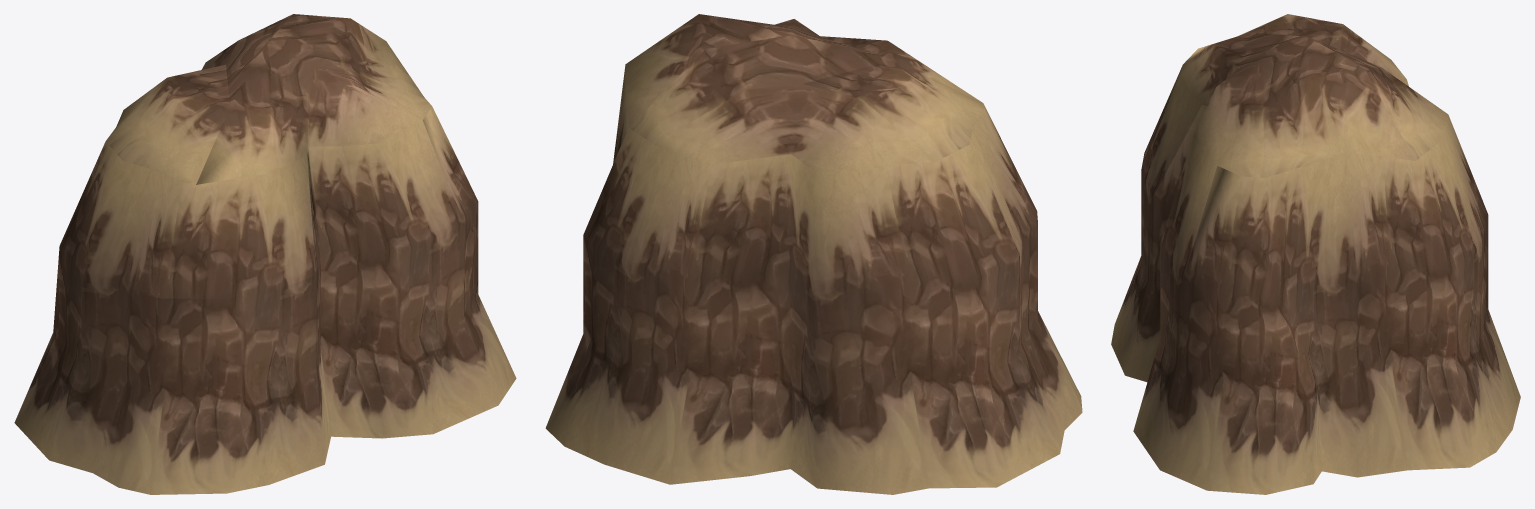
The model's file is FB5_dashati_2.FBX.
The picture shows the model from 3 angles, left to right: view 1: azimuth 30°, elevation 25°; view 2: azimuth 150°, elevation 25°; view 3: azimuth 270°, elevation 25°; orthographic projection. The views are drawn at different scales.
Parts seen in each view (by area): view 1: FB5_dashati_2; view 2: FB5_dashati_2; view 3: FB5_dashati_2.
Part boxes in pixels (x1,y1,x2,y2): FB5_dashati_2: [14, 14, 516, 494]; FB5_dashati_2: [545, 14, 1082, 494]; FB5_dashati_2: [1111, 14, 1520, 494].
Bounding box in the file's own units: 12767 × 9633 × 10052.
1 material, 1 textured.
